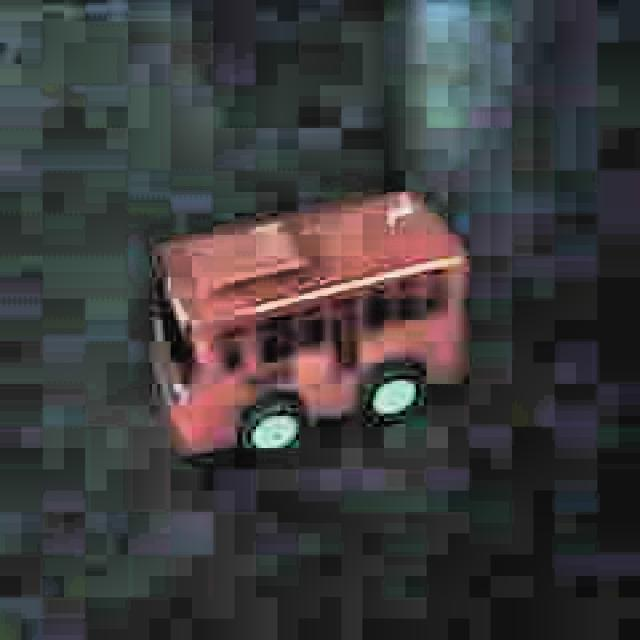bus: (140, 178, 475, 464)
